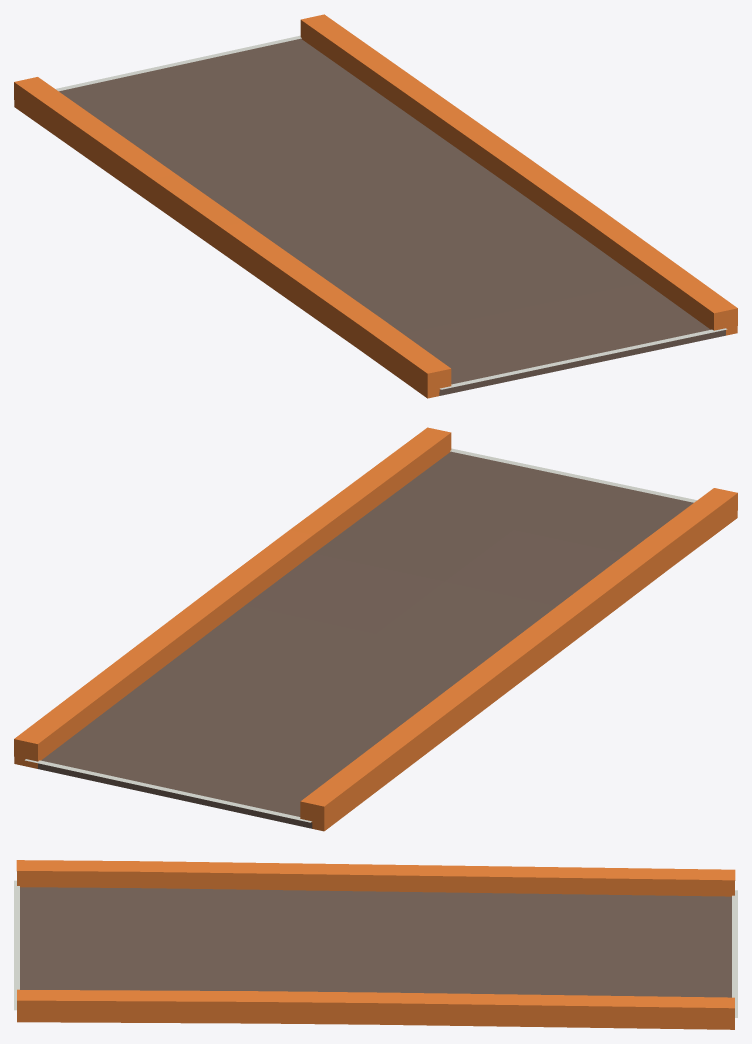
Rendered from SM_MP_Film_B_2_3.fbx.
The picture shows the model from 3 angles, top to bottom: view 1: azimuth 30°, elevation 25°; view 2: azimuth 150°, elevation 25°; view 3: azimuth 270°, elevation 25°; orthographic projection. The views are drawn at different scales.
Parts seen in each view (by area): view 1: SM_MP_Film_B_2_3; view 2: SM_MP_Film_B_2_3; view 3: SM_MP_Film_B_2_3.
Boxes of the visible parts, x1,y1,x2,y2 form: SM_MP_Film_B_2_3: [14, 14, 737, 398]; SM_MP_Film_B_2_3: [14, 427, 737, 831]; SM_MP_Film_B_2_3: [14, 860, 737, 1029].
Size of what is drawn, in the model's own units: 260 by 605 by 35.33.
